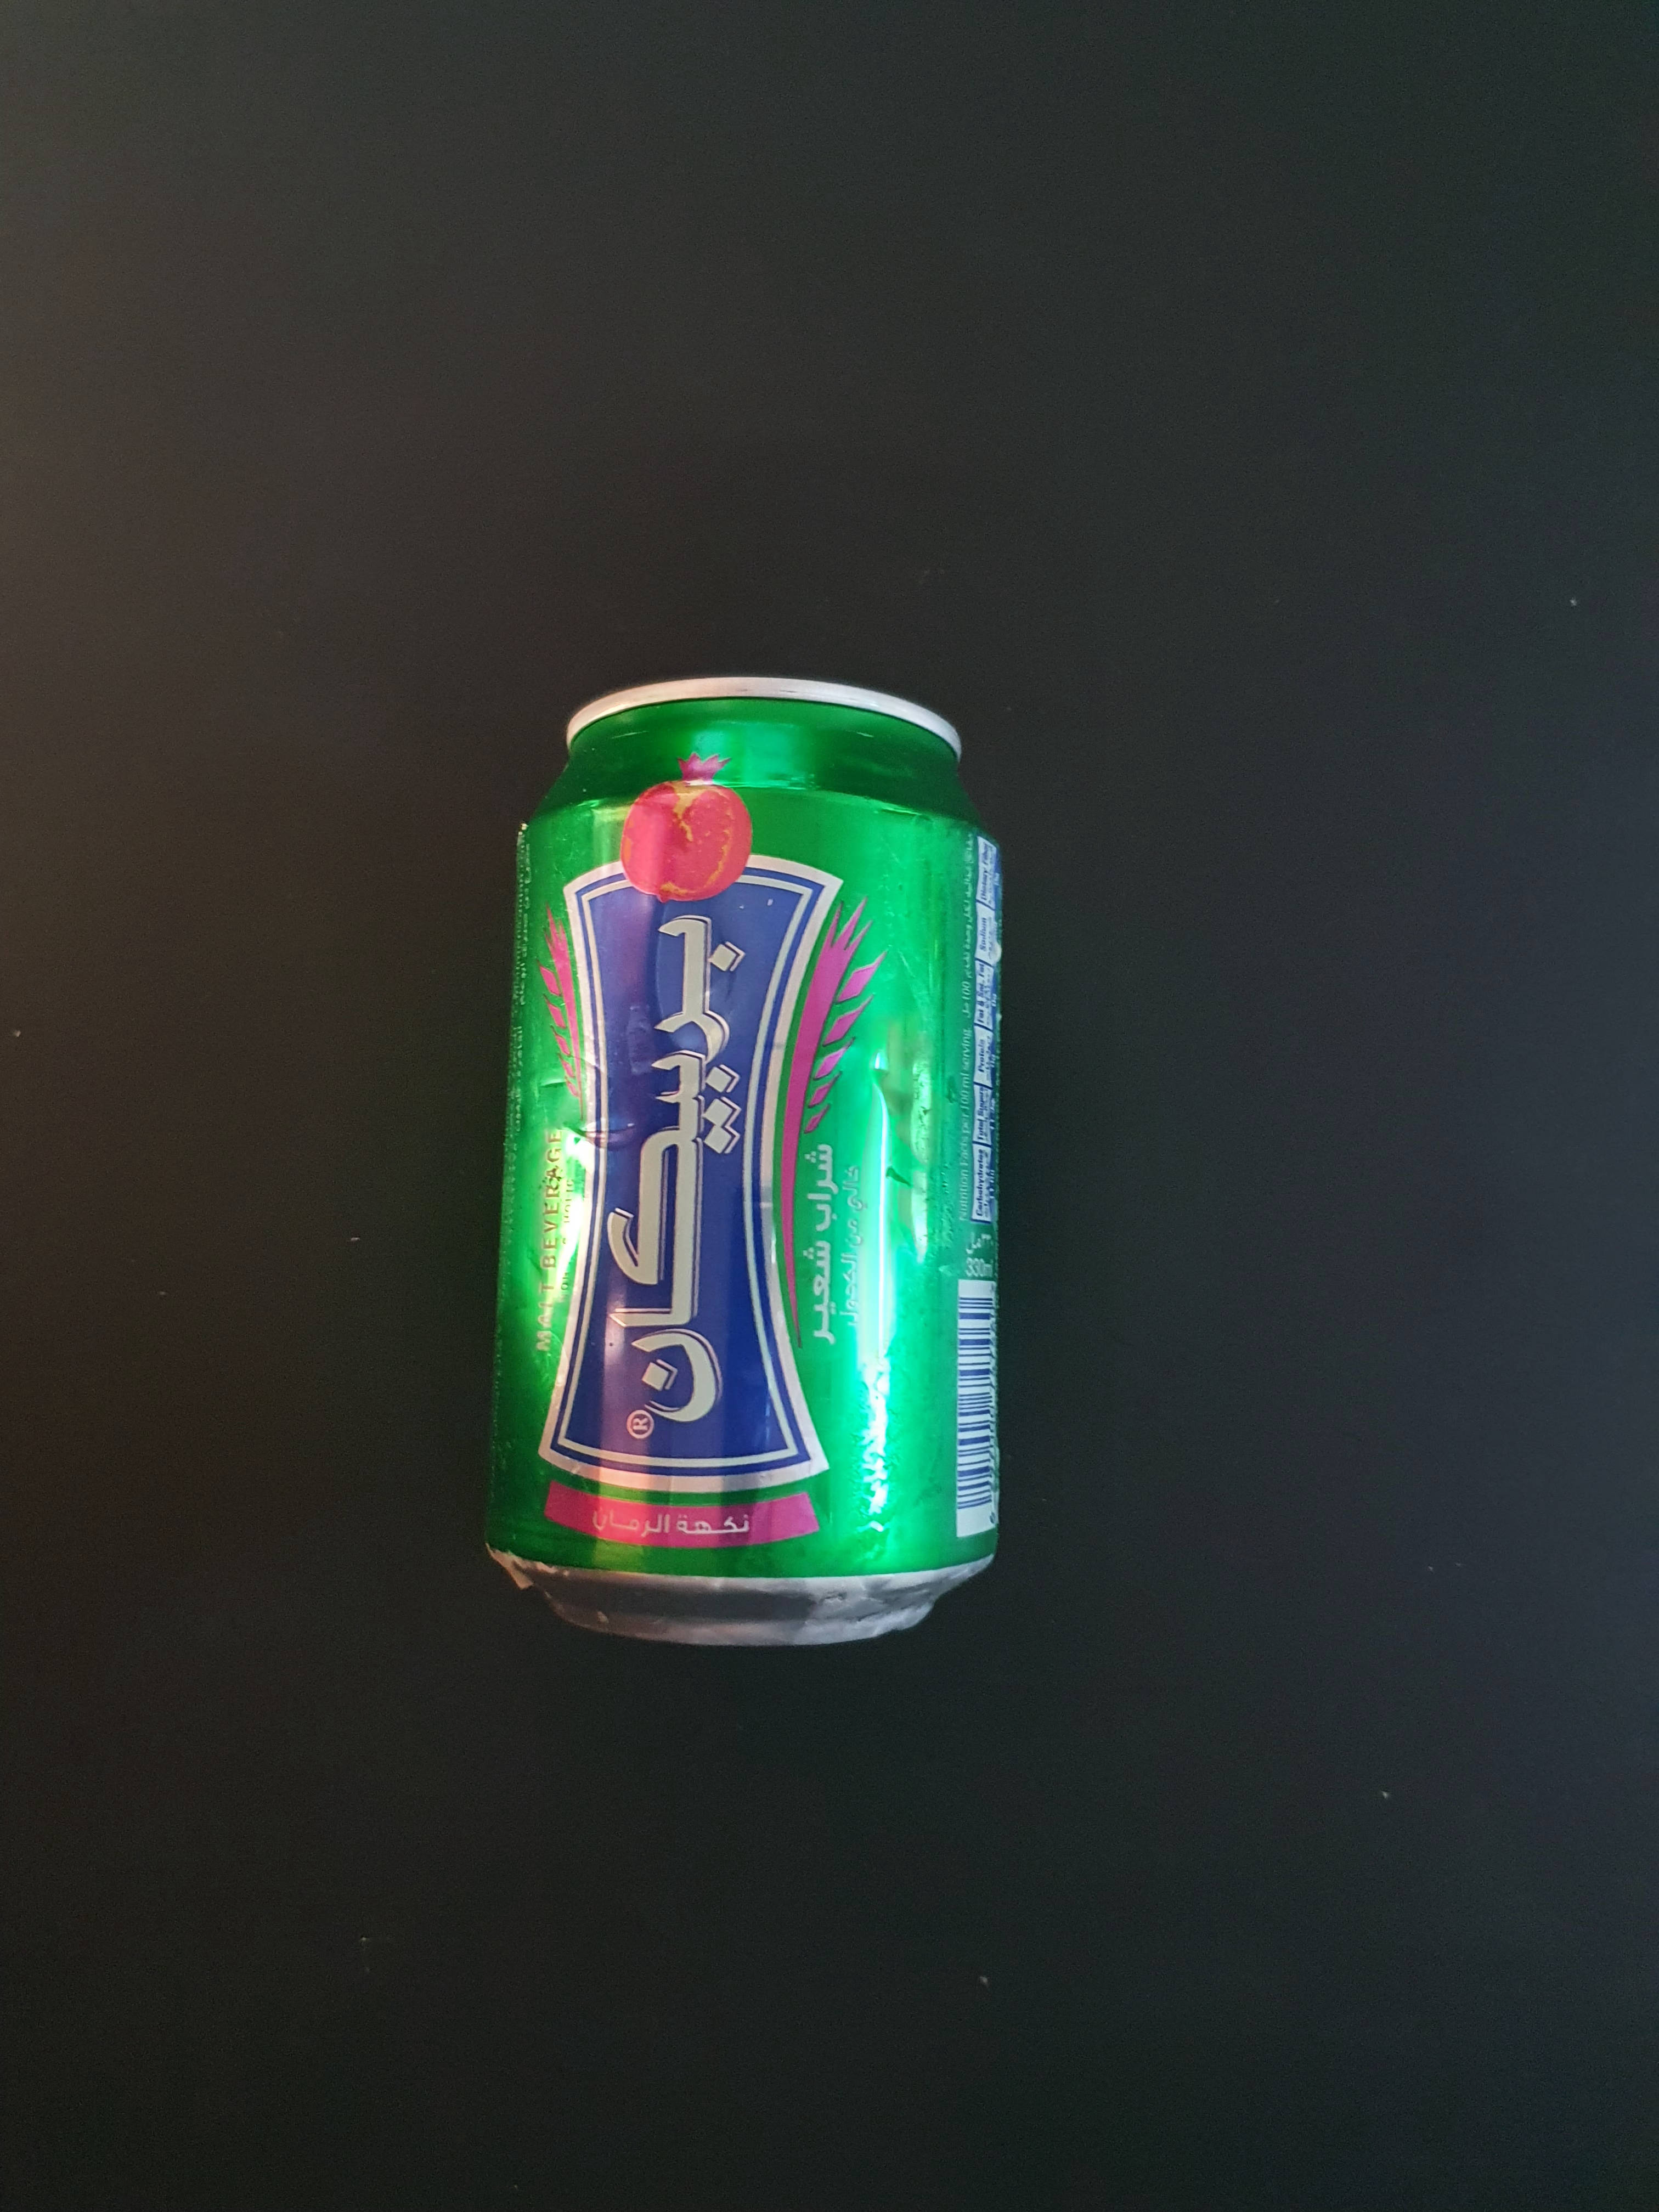metal: (451, 629, 1044, 1700)
